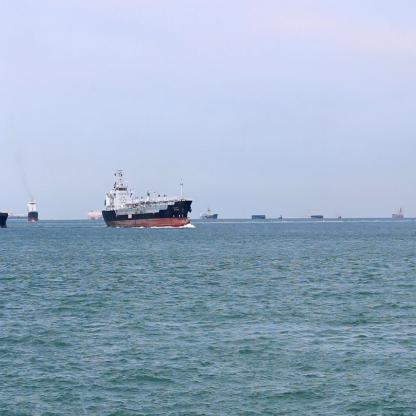Container Ship: (102, 167, 194, 231), (28, 198, 40, 223), (8, 208, 28, 222), (277, 214, 282, 221)
